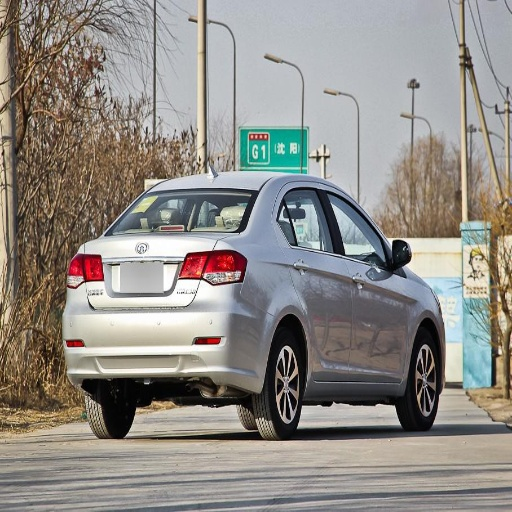back_bumper: (62, 280, 273, 390)
back_right_door: (276, 183, 351, 378)
tailgate: (84, 231, 206, 306)
trunk: (70, 271, 200, 312)
